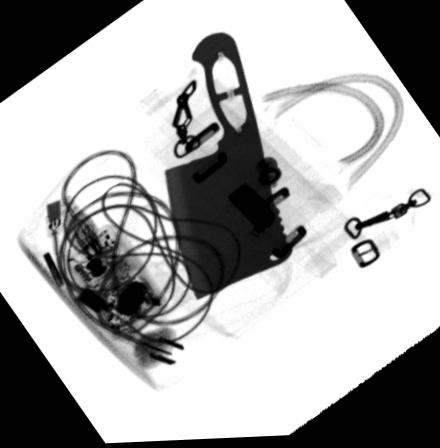Knife: (162, 30, 295, 305)
